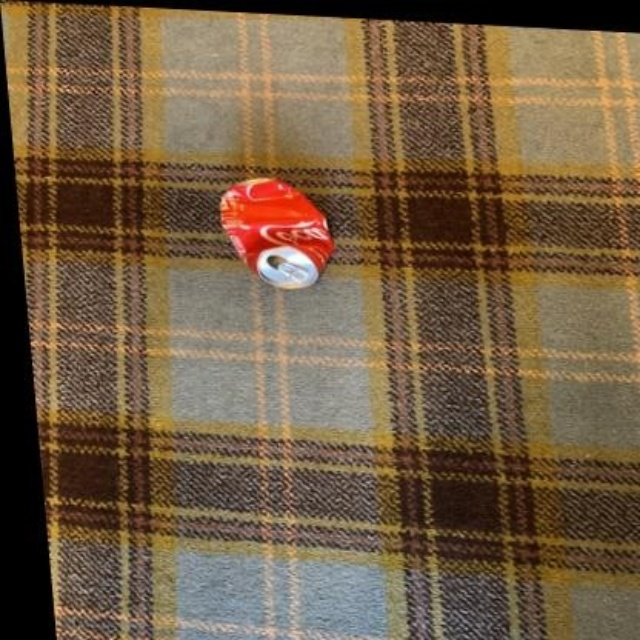trash: (220, 178, 332, 288)
